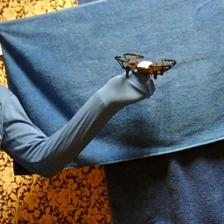drone: (114, 52, 176, 83)
